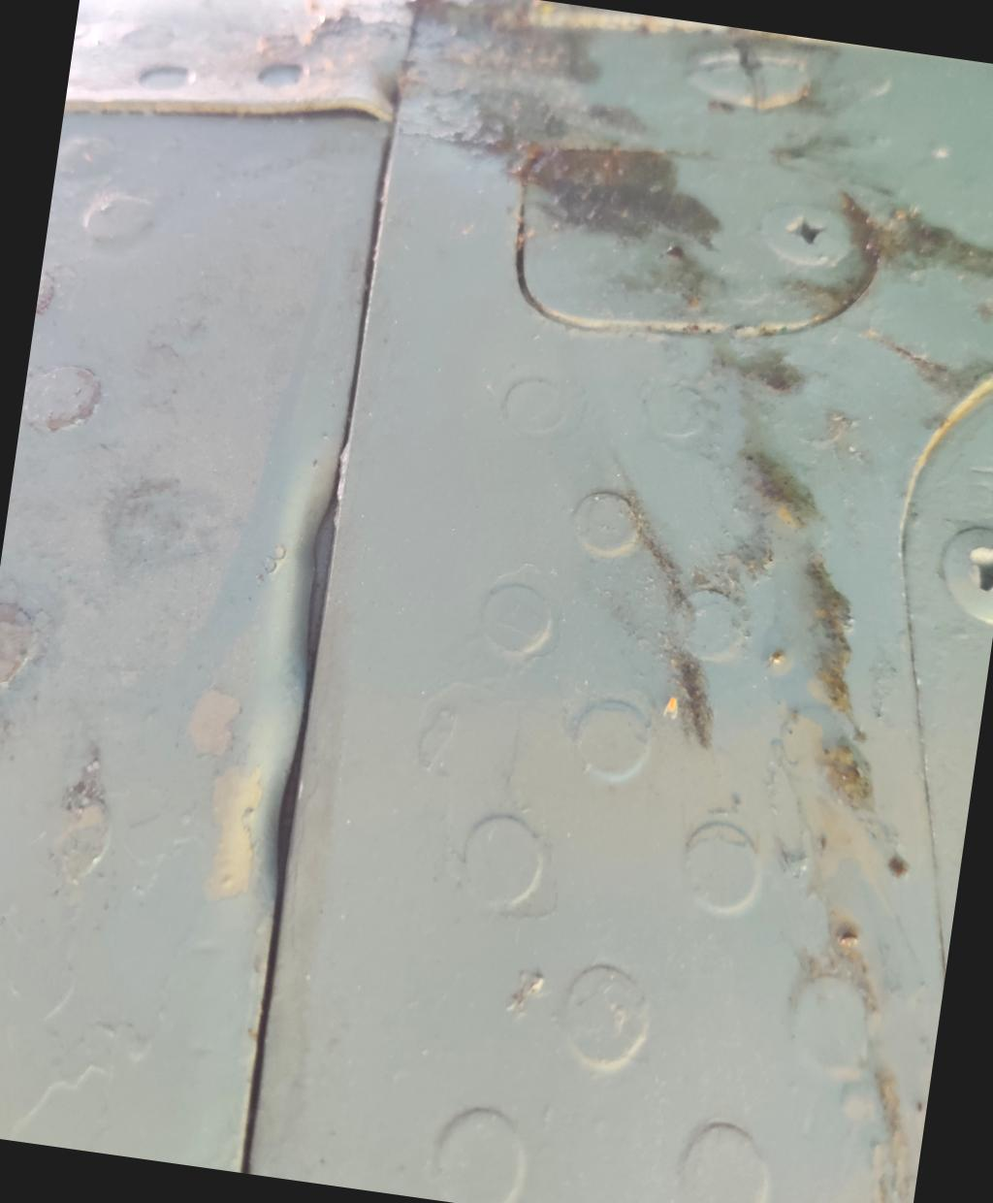dent: (136, 389, 440, 959)
